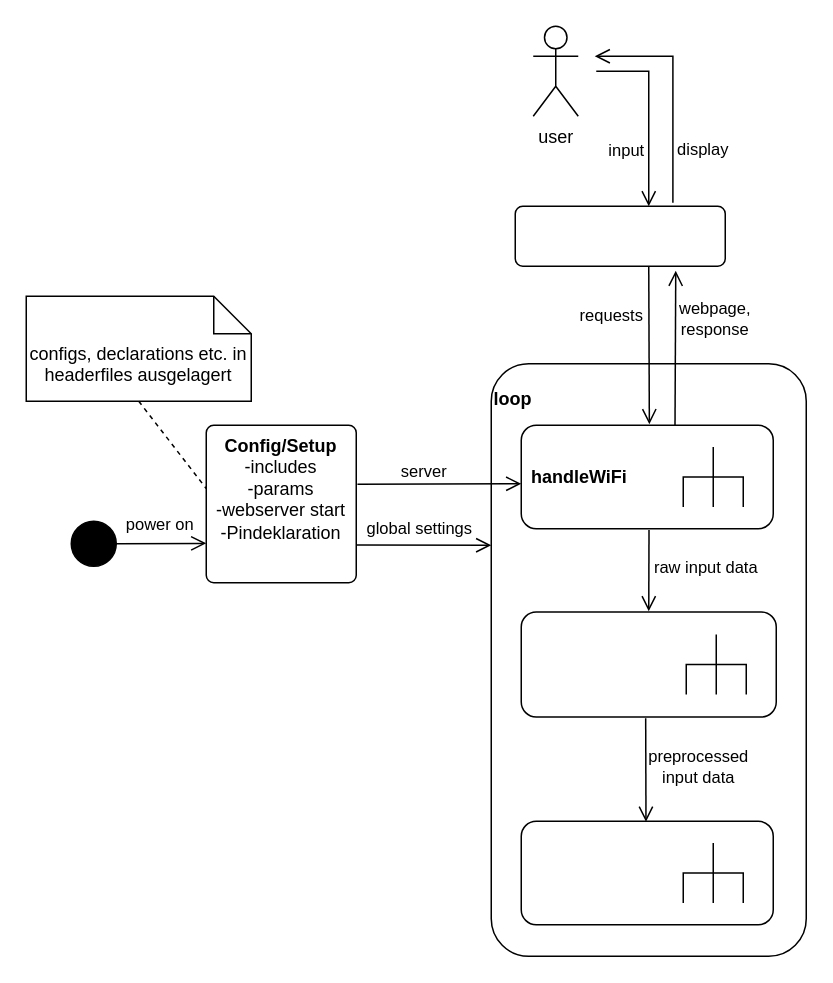
The diagram is 833 pixels wide and 983 high, and some of its shapes have lost their labels. Here are the shapes that lost their labels. From the top down, the centre of each, then its label:
At (619,235): "Client (Browser)".
At (648,663): "preprocessInput".
At (646,872): "driveMotors".
